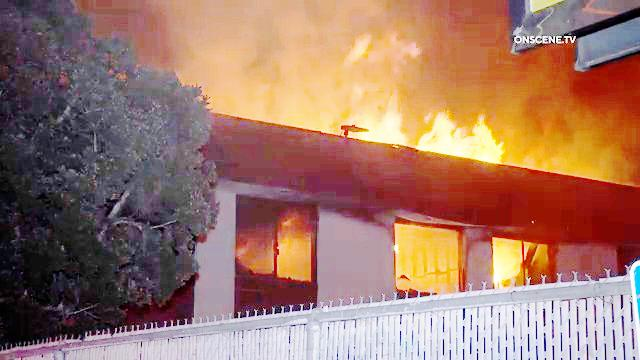fire: (352, 93, 502, 159)
